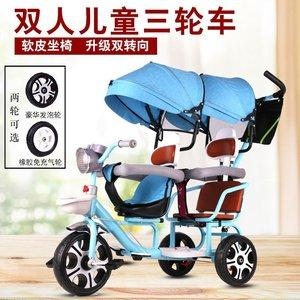empty: (51, 62, 286, 296)
